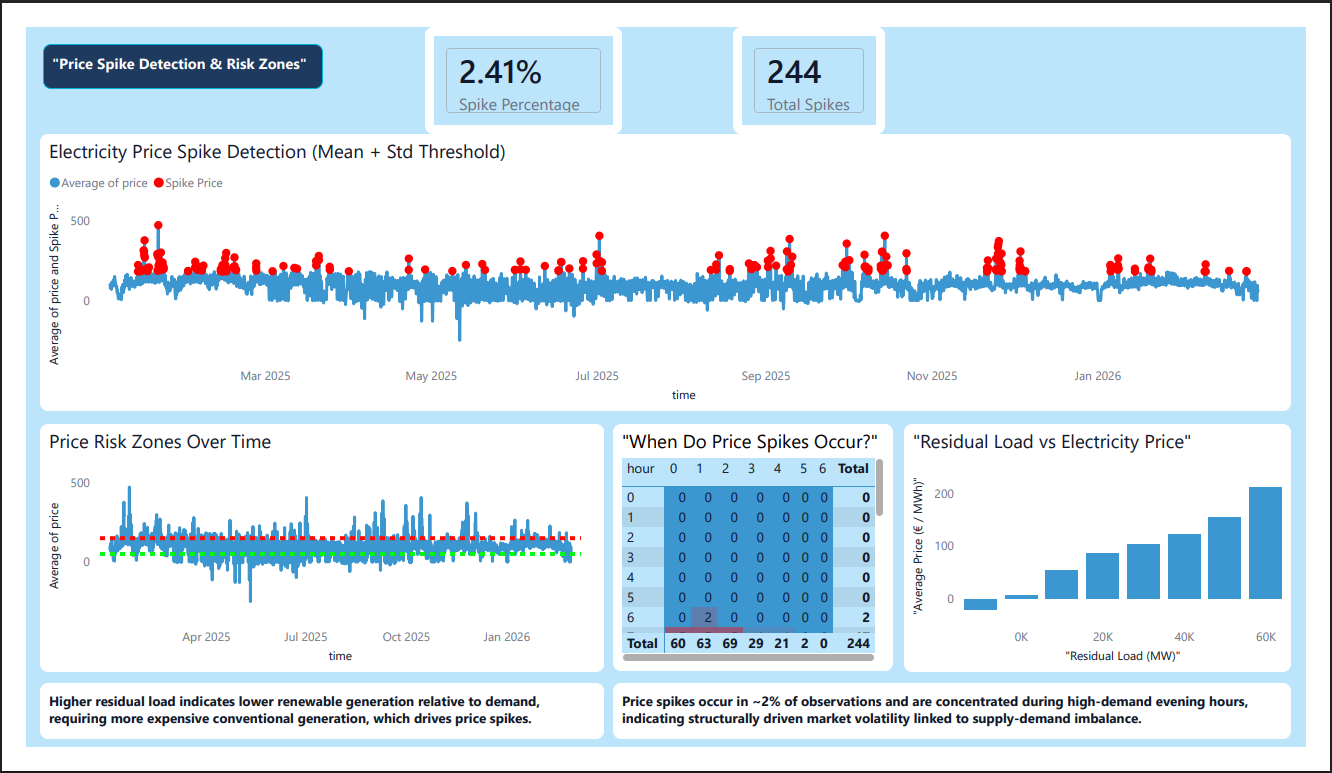

The dashboard page shown, as its layout file describes it:
{"tool":"powerbi","page":{"name":"Price Spike Detection & Risk Zones","canvas":[1280,720],"ordinal":3},"visuals":[{"type":"lineChart","title":"Price Risk Zones Over Time","fields":{"Y":["Avg(powerbi_final_dataset.price)"],"Category":["powerbi_final_dataset.time"]},"box":[14,396.5,564,248.8],"z":0},{"type":"lineChart","title":"Electricity Price Spike Detection (Mean + Std Threshold)","fields":{"Category":["powerbi_final_dataset.time"],"Y":["Avg(powerbi_final_dataset.price)","powerbi_final_dataset.Spike Price"]},"box":[14,107,1251.2,276.7],"z":1000},{"type":"cardVisual","fields":{"Data":["DateTable.Total Spikes"]},"box":[707,0,152.3,107],"z":2000},{"type":"cardVisual","fields":{"Data":["powerbi_final_dataset.Spike Percentage"]},"box":[399,0,196.5,107],"z":3000},{"type":"textbox","box":[587.2,655.8,677.9,55.8],"z":4000},{"type":"pivotTable","title":"\"When Do Price Spikes Occur?\"","fields":{"Rows":["powerbi_final_dataset.hour"],"Columns":["powerbi_final_dataset.day_of_week"],"Values":["powerbi_final_dataset.Spike Count"]},"box":[587.2,396.5,280.2,247.7],"z":5000},{"type":"clusteredColumnChart","title":"\"Residual Load vs Electricity Price\"","fields":{"Category":["powerbi_final_dataset.residual_load (bins)"],"Y":["Avg(powerbi_final_dataset.price)"]},"box":[877.9,396.5,387.2,248.8],"z":6000},{"type":"textbox","box":[14,655.8,564,55.8],"z":7000},{"type":"textbox","box":[17.4,17.4,279.1,44.2],"z":7001}]}

Visuals, with their boxes in screenshot pixels (x1, y1, x2, y2):
"Price Risk Zones Over Time" lineChart: pyautogui.locateOnScreen(0, 436, 598, 700)
"Electricity Price Spike Detection (Mean + Std Threshold)" lineChart: pyautogui.locateOnScreen(0, 128, 1329, 422)
cardVisual - DateTable.Total Spikes: pyautogui.locateOnScreen(735, 14, 897, 128)
cardVisual - powerbi_final_dataset.Spike Percentage: pyautogui.locateOnScreen(407, 14, 616, 128)
textbox: pyautogui.locateOnScreen(607, 712, 1329, 771)
""When Do Price Spikes Occur?"" pivotTable: pyautogui.locateOnScreen(607, 436, 906, 699)
""Residual Load vs Electricity Price"" clusteredColumnChart: pyautogui.locateOnScreen(917, 436, 1329, 700)
textbox: pyautogui.locateOnScreen(0, 712, 598, 771)
textbox: pyautogui.locateOnScreen(1, 32, 298, 79)
